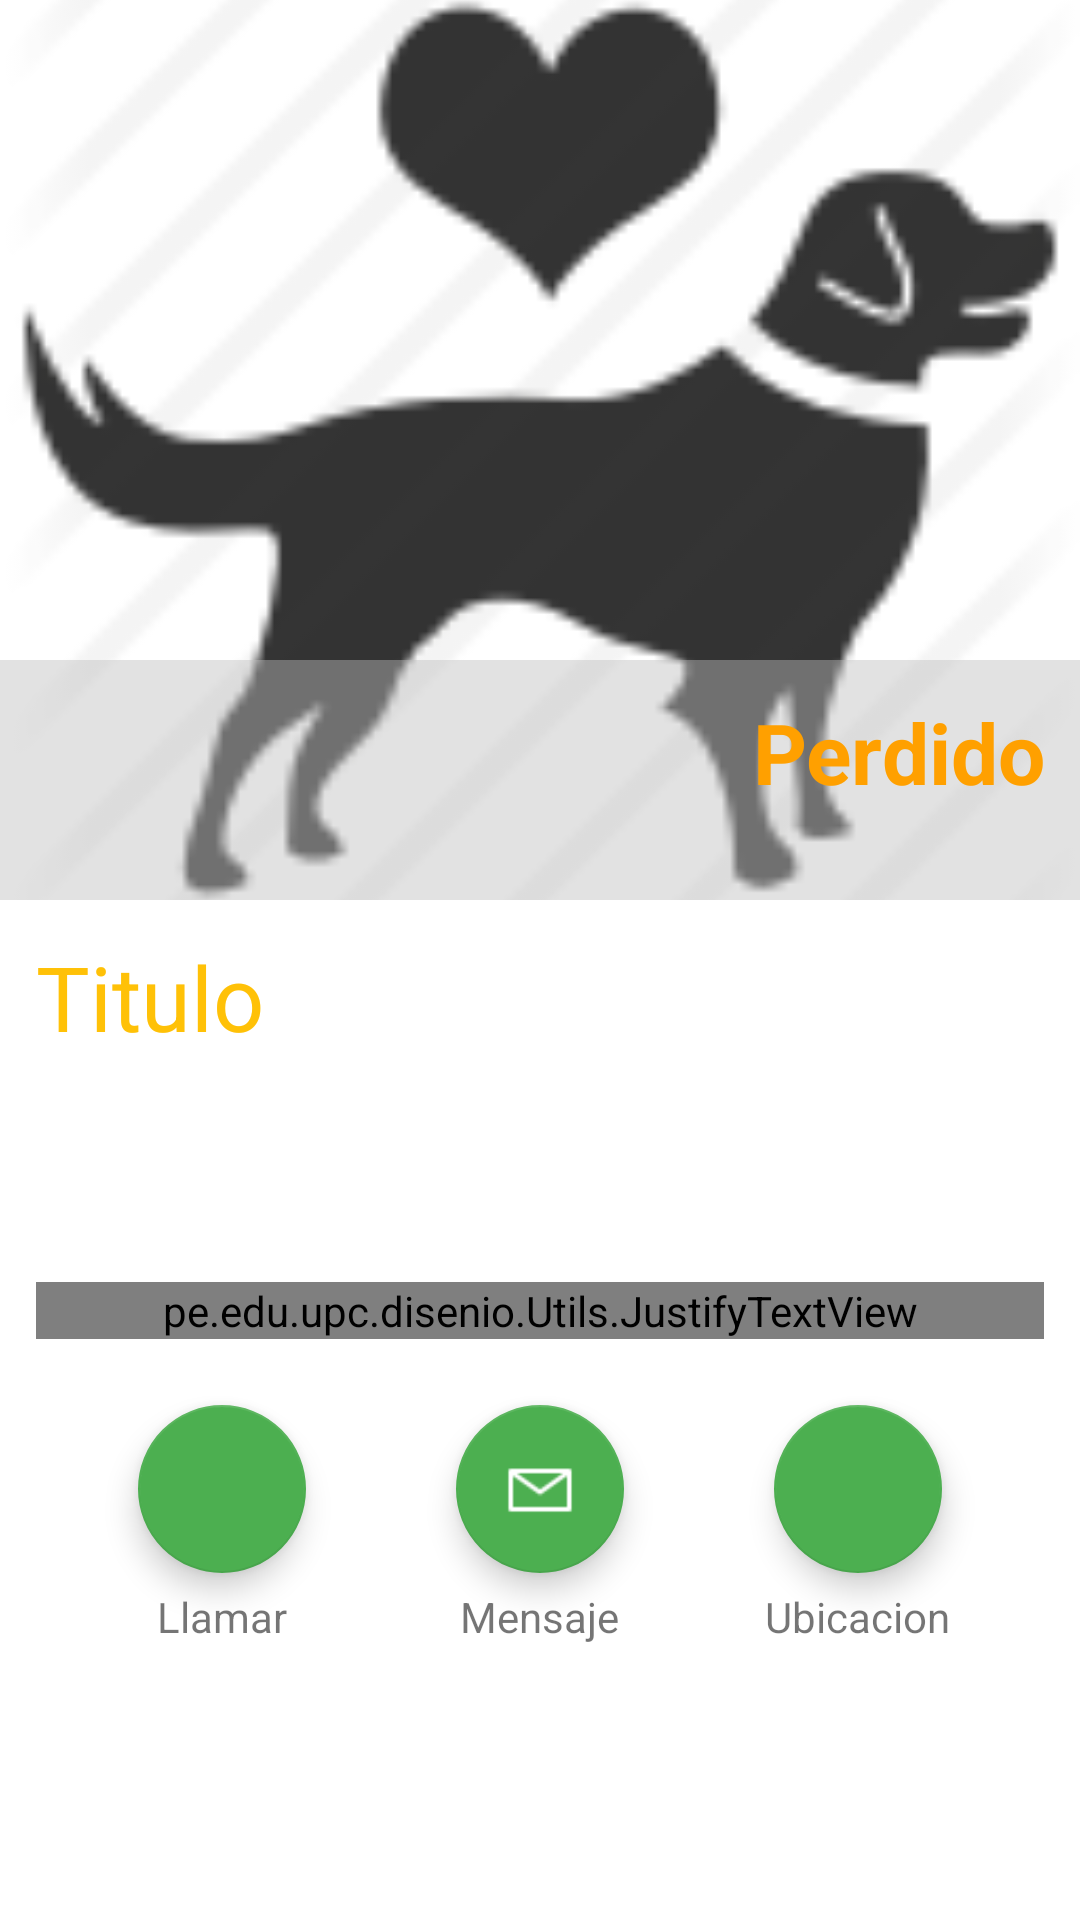

Locate icon controls on the screen. Image size 1080 x 1920, boxes as (x1, y1, x2, y2).
letterbig: (456, 1405, 624, 1573)
